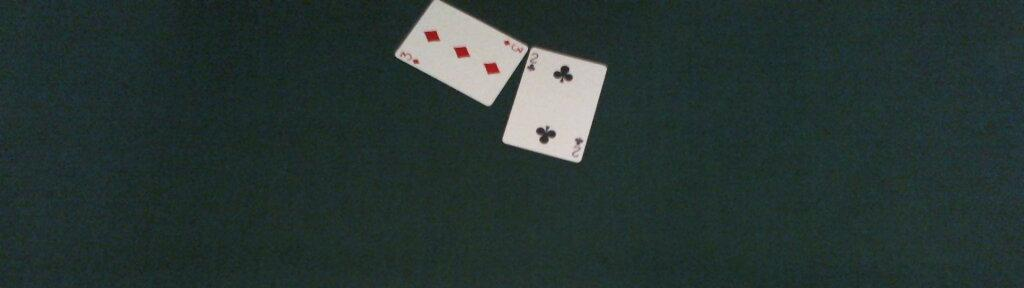three: (393, 1, 529, 107)
two: (503, 47, 608, 163)
